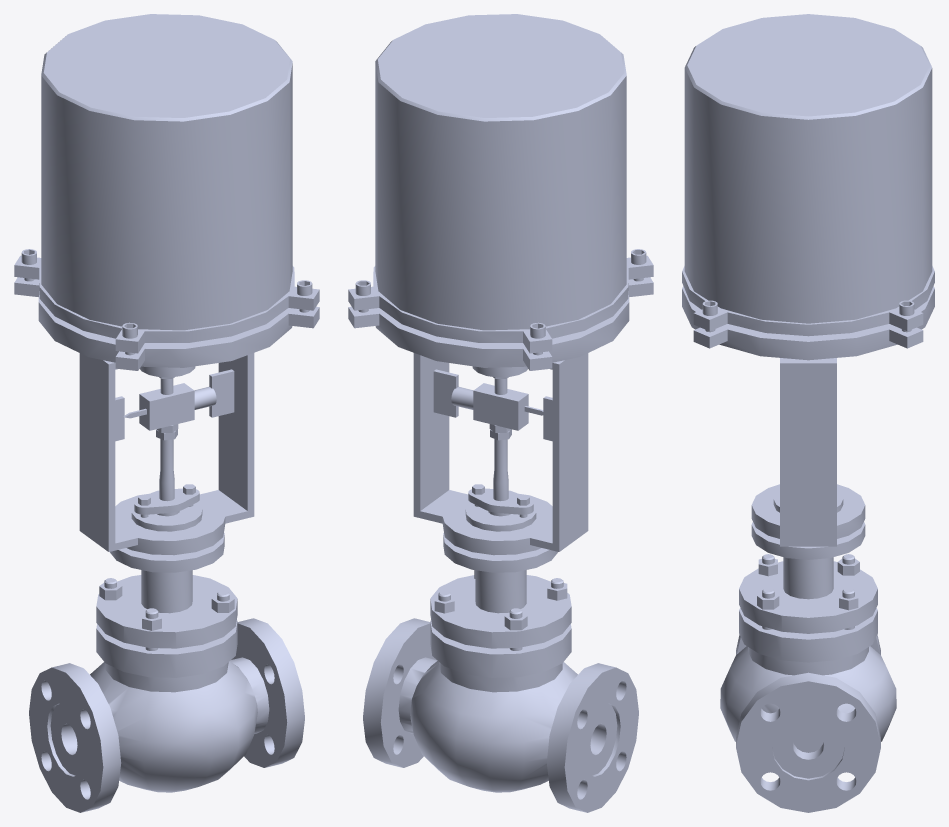
File: valve.glb
3 views of the same model, side by side, from view 1: azimuth 30°, elevation 25°; view 2: azimuth 150°, elevation 25°; view 3: azimuth 270°, elevation 25° (orthographic). The views are drawn at different scales.
Visible parts, largest first — view 1: main; view 2: main; view 3: main.
Boxes of the visible parts, x1=… form: main: x1=14, y1=14, x2=319, y2=812; main: x1=348, y1=14, x2=653, y2=812; main: x1=682, y1=14, x2=934, y2=812.
Bounding box in the file's own units: 0.2 × 0.611 × 0.2.
